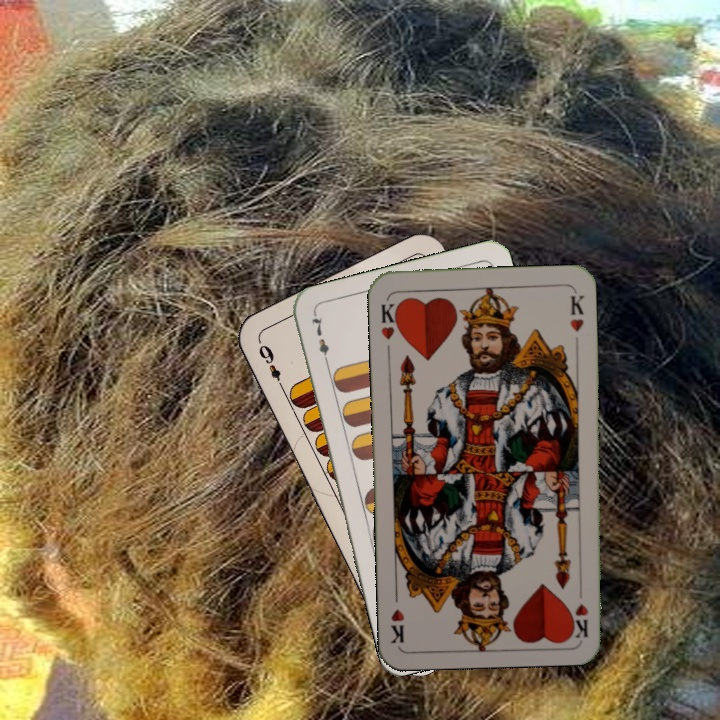E7: (307, 310, 332, 369)
E9: (254, 340, 287, 393)
HK: (571, 579, 591, 639), (377, 299, 403, 342)
